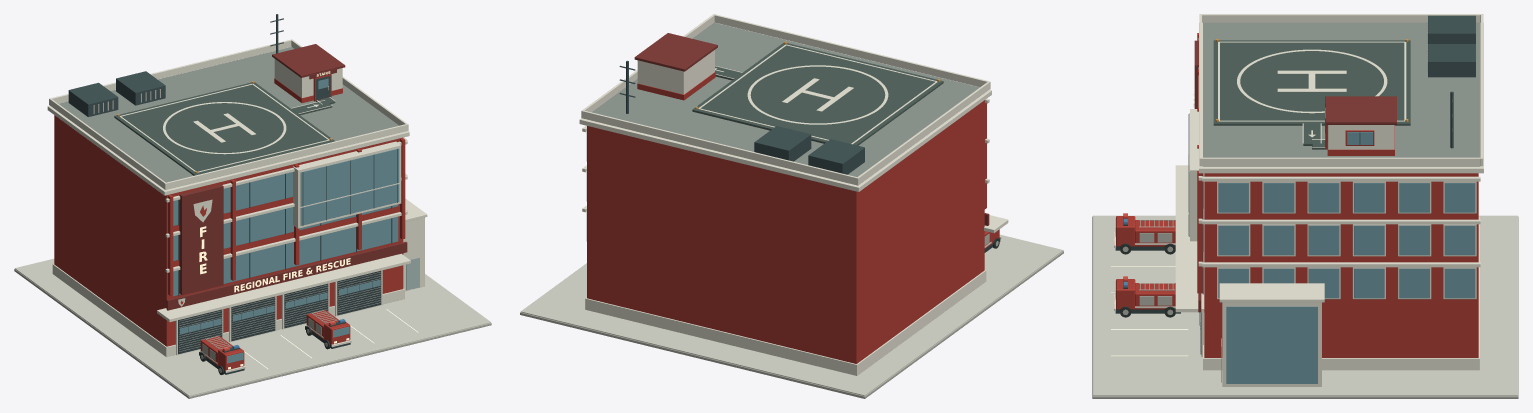
The model's file is regional-fire-station.glb.
The picture shows the model from 3 angles, left to right: view 1: azimuth 30°, elevation 25°; view 2: azimuth 150°, elevation 25°; view 3: azimuth 270°, elevation 25°; orthographic projection. The views are drawn at different scales.
Parts seen in each view (by area): view 1: FourStoreyHeadquarters, Paving, HelipadDeck, RoofDeck, CommandRoomGlass, FrontOfficeGlass, IdentityPanel, DepartureCanopy, ServiceNameBand, RoofCornice, FrontOfficeGlass.001, RoofParapet (+22 smaller); view 2: FourStoreyHeadquarters, Paving, HelipadDeck, RoofDeck, WhiteBase, RoofCornice, RoofParapet.001, RoofParapet, Lot, StairBulkheadRoof, RooftopStairBulkhead, RoofPlant.001 (+5 smaller); view 3: Paving, FourStoreyHeadquarters, RoofDeck, HelipadDeck, EntranceGlazing, DepartureCanopy, RoofCornice, RoofParapet.003, WhiteBase, RoofParapet.002, EntranceRoof, StairBulkheadRoof (+37 smaller).
Boxes of the visible parts, x1,y1,x2,y2 form: FourStoreyHeadquarters: (54, 115, 403, 346); Paving: (15, 258, 490, 396); HelipadDeck: (114, 82, 334, 175); RoofDeck: (58, 47, 398, 182); CommandRoomGlass: (300, 148, 399, 225); FrontOfficeGlass: (172, 216, 398, 296); IdentityPanel: (179, 184, 223, 295); DepartureCanopy: (157, 253, 410, 322); ServiceNameBand: (166, 241, 407, 310); RoofCornice: (47, 106, 409, 195); FrontOfficeGlass.001: (173, 204, 398, 260); RoofParapet: (164, 124, 408, 189); FourStoreyHeadquarters: (587, 100, 984, 363); Paving: (521, 234, 1063, 395); HelipadDeck: (692, 43, 943, 145); RoofDeck: (592, 22, 979, 176); WhiteBase: (585, 270, 986, 375); RoofCornice: (579, 89, 991, 191); RoofParapet.001: (581, 110, 859, 185); RoofParapet: (713, 14, 990, 88); Lot: (520, 251, 1063, 398); StairBulkheadRoof: (634, 33, 717, 71); RooftopStairBulkhead: (637, 50, 714, 94); RoofPlant.001: (754, 126, 811, 161); Paving: (1093, 215, 1517, 395); FourStoreyHeadquarters: (1204, 173, 1478, 357); RoofDeck: (1203, 22, 1479, 166); HelipadDeck: (1213, 40, 1410, 125); EntranceGlazing: (1226, 306, 1317, 383); DepartureCanopy: (1175, 165, 1204, 312); RoofCornice: (1199, 22, 1483, 173); RoofParapet.003: (1201, 157, 1481, 166); WhiteBase: (1203, 216, 1479, 370); RoofParapet.002: (1201, 14, 1481, 22); EntranceRoof: (1219, 283, 1324, 302); StairBulkheadRoof: (1325, 96, 1396, 124).
Bounding box in the file's own units: 32 × 22.12 × 32.
